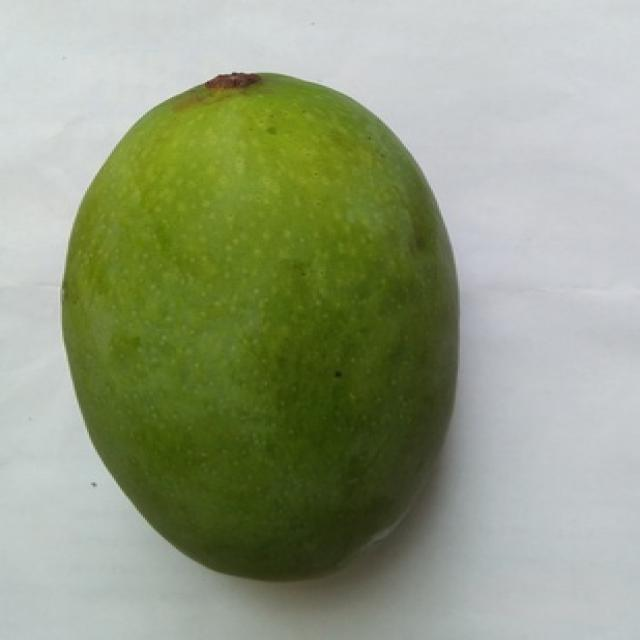Mango: (62, 73, 452, 579)
